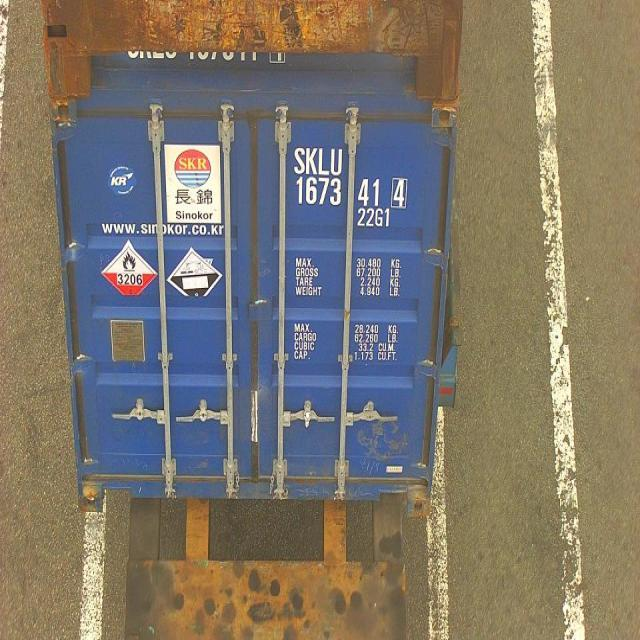ISO: (358, 210, 392, 230)
container_number: (292, 140, 409, 208)
